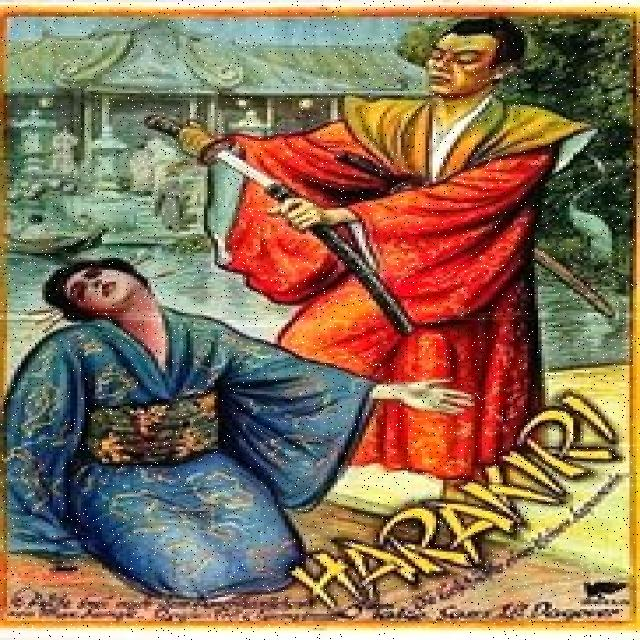movie-judul: (292, 392, 629, 611)
picture: (7, 19, 594, 599)
